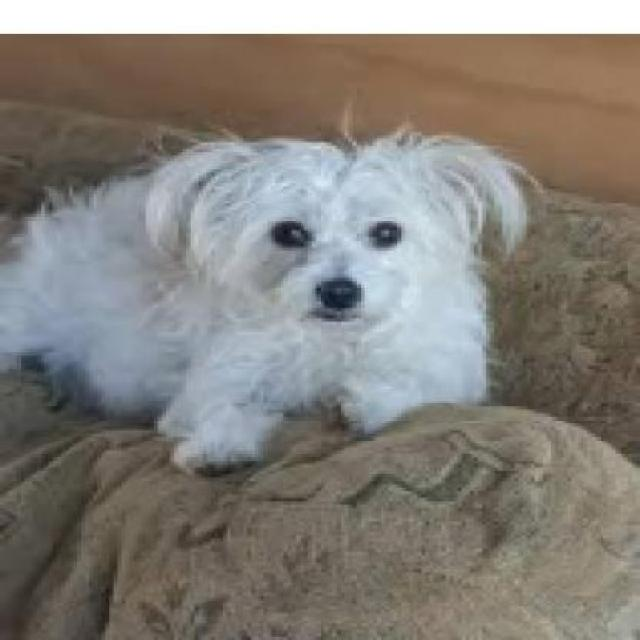Dog: (1, 105, 542, 477)
